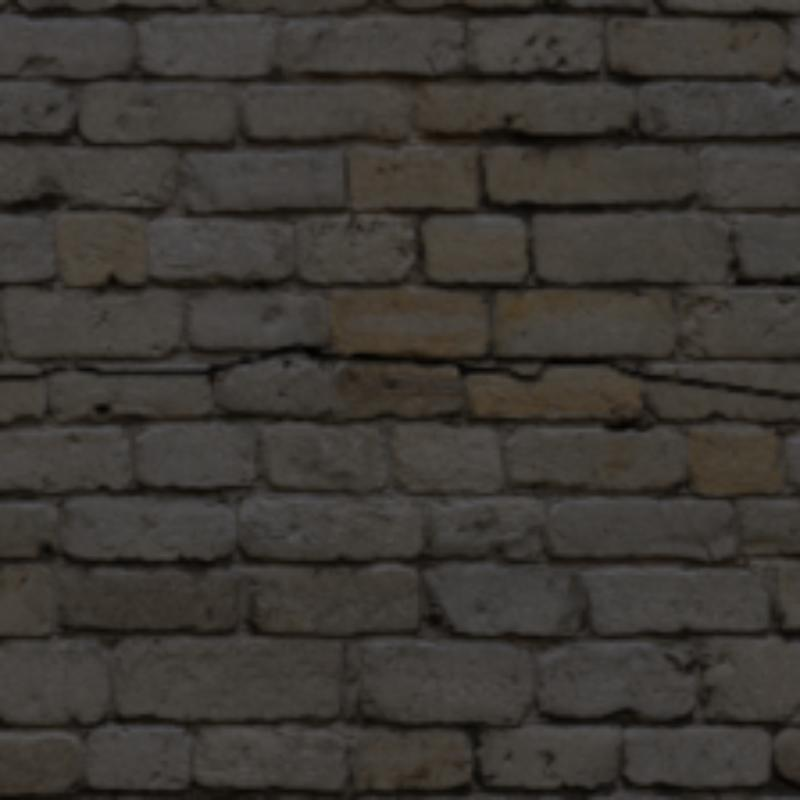pothole: (0, 343, 796, 400)
